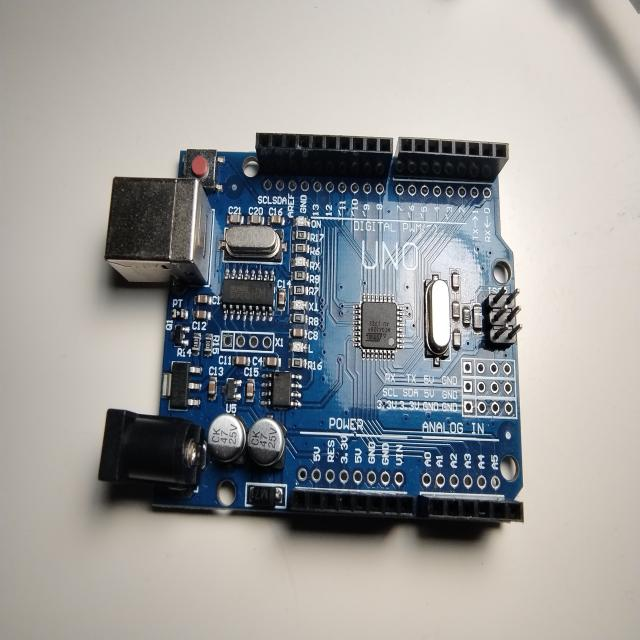arduino: (95, 118, 525, 558)
